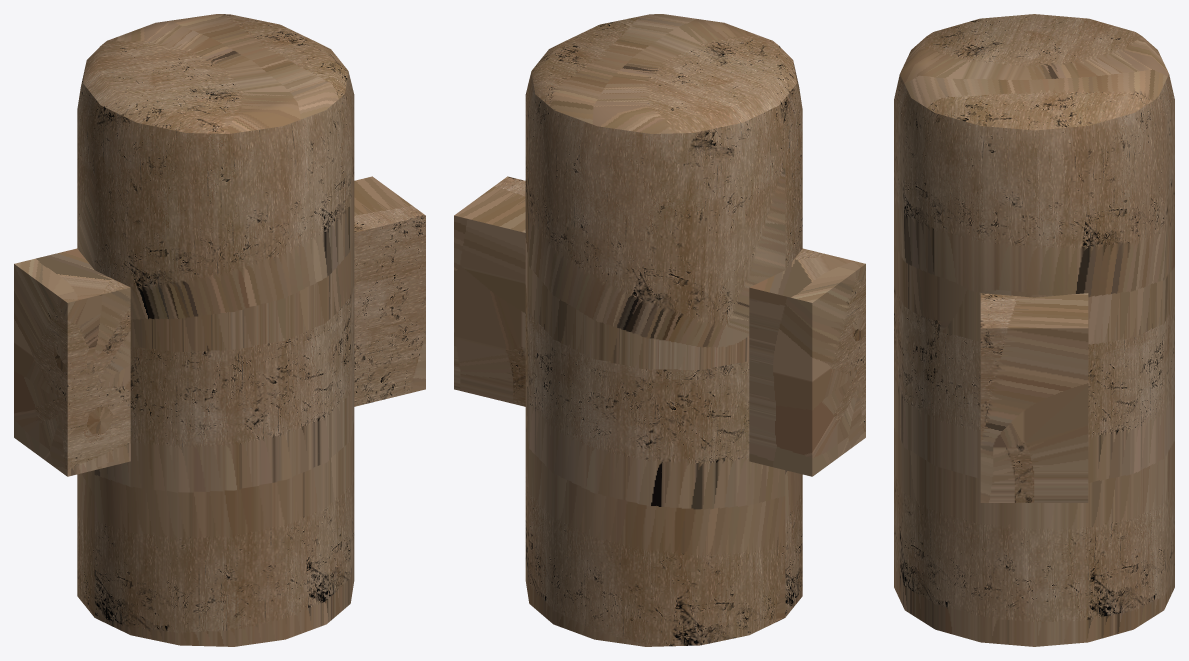
The model's file is muro.fbx.
3 views of the same model, side by side, from view 1: azimuth 30°, elevation 25°; view 2: azimuth 150°, elevation 25°; view 3: azimuth 270°, elevation 25° (orthographic).
Parts seen in each view (by area): view 1: muro_1; view 2: muro_1; view 3: muro_1.
Boxes of the visible parts, bbox=[...] form: muro_1: bbox=[14, 14, 425, 646]; muro_1: bbox=[454, 14, 865, 646]; muro_1: bbox=[894, 14, 1174, 646].
Bounding box in the file's own units: 271 × 377 × 183.
